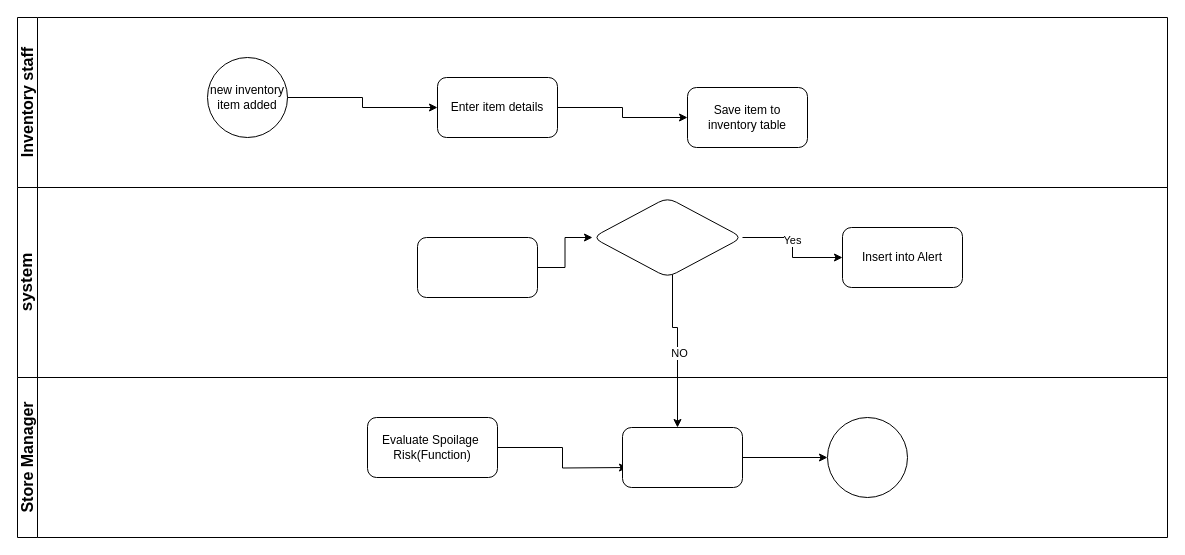
This 1185x555 diagram has some shape labels left out. The shapes that lost their labels are listed below. From the top down, each one's centre as x and y in pixels, then its label:
At (667,237): "Is Shelf-Life Below Threshold?".
At (477,267): "Calculate Expected Spoilage Date".
At (682,457): "Remove spolaige in Alarms".
At (867,457): "END spoilage handled".
